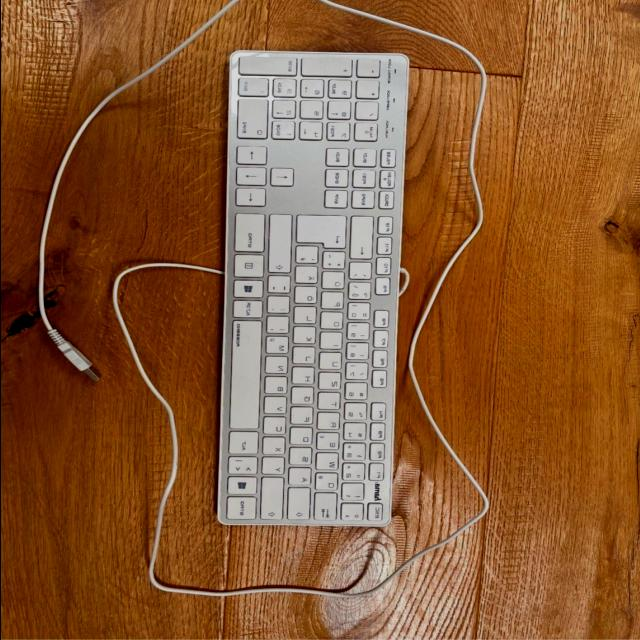0: (349, 304, 373, 322)
1: (343, 484, 366, 502)
2: (343, 464, 367, 482)
3: (344, 444, 367, 462)
4: (344, 424, 368, 442)
5: (345, 404, 369, 422)
6: (346, 384, 370, 402)
7: (347, 364, 371, 381)
8: (347, 344, 371, 362)
9: (348, 324, 372, 342)
a: (289, 469, 313, 487)
accent: (350, 264, 374, 282)
ae: (296, 268, 320, 286)
alt-left: (229, 433, 261, 457)
altgr-right: (233, 301, 264, 319)
b: (265, 378, 289, 396)
c: (264, 418, 288, 436)
caret: (342, 505, 365, 524)
comma: (267, 317, 291, 335)
d: (291, 429, 315, 447)
del: (352, 218, 376, 262)
e: (317, 434, 341, 452)
enter: (295, 216, 348, 250)
f: (291, 408, 315, 426)
g: (292, 388, 316, 406)
h: (293, 368, 317, 386)
hash: (297, 248, 321, 266)
i: (321, 334, 345, 351)
j: (293, 348, 317, 366)
k: (294, 328, 318, 346)
keyboard: (215, 50, 409, 529)
l: (295, 309, 319, 326)
m: (267, 338, 291, 356)
minus: (269, 277, 293, 295)
n: (266, 358, 290, 376)
o: (321, 313, 345, 331)
oe: (295, 288, 319, 306)
p: (322, 293, 346, 311)
plus: (324, 253, 348, 271)
point: (268, 297, 292, 315)
q: (316, 474, 340, 492)
r: (318, 414, 342, 432)
s: (290, 449, 314, 467)
shift-left: (260, 477, 285, 522)
shift-lock: (289, 489, 313, 522)
shift-right: (270, 215, 294, 274)
space: (231, 322, 264, 430)
ss: (349, 284, 373, 302)
strg-left: (227, 498, 259, 522)
strg-right: (235, 214, 267, 254)
t: (319, 394, 343, 411)
tab: (315, 495, 339, 523)
u: (320, 354, 344, 372)
ue: (323, 273, 347, 291)
v: (265, 398, 289, 416)
w: (317, 454, 341, 472)
x: (263, 439, 287, 457)
y: (263, 458, 287, 476)
z: (319, 374, 343, 392)
